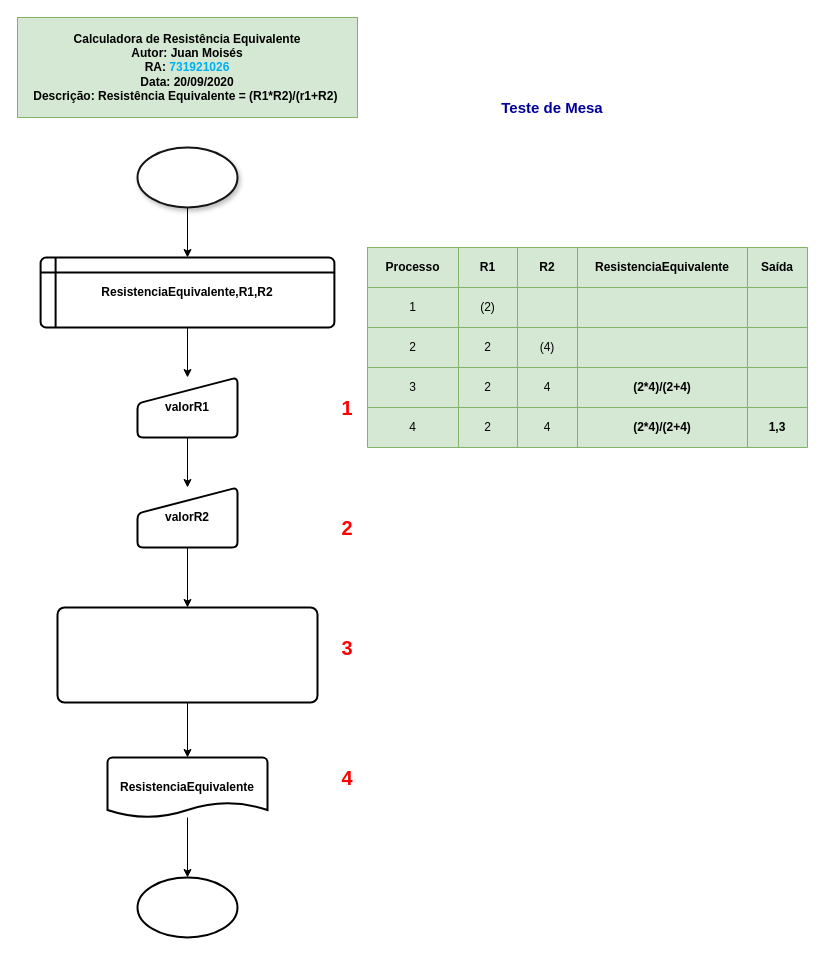
Image size: 825x956. Some labels were removed from this diagram. The centre of each missing label's shape, as x and y in pixels:
Fim: pixel 187 907
Inicio: pixel 188 178
ResistenciaEquivalente = (R1*R2)/R1+R2: pixel 187 654
